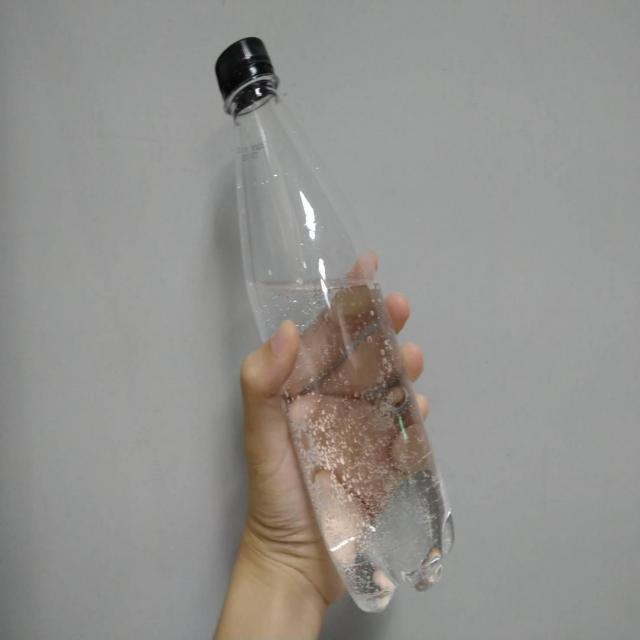bottle: (208, 34, 455, 619)
